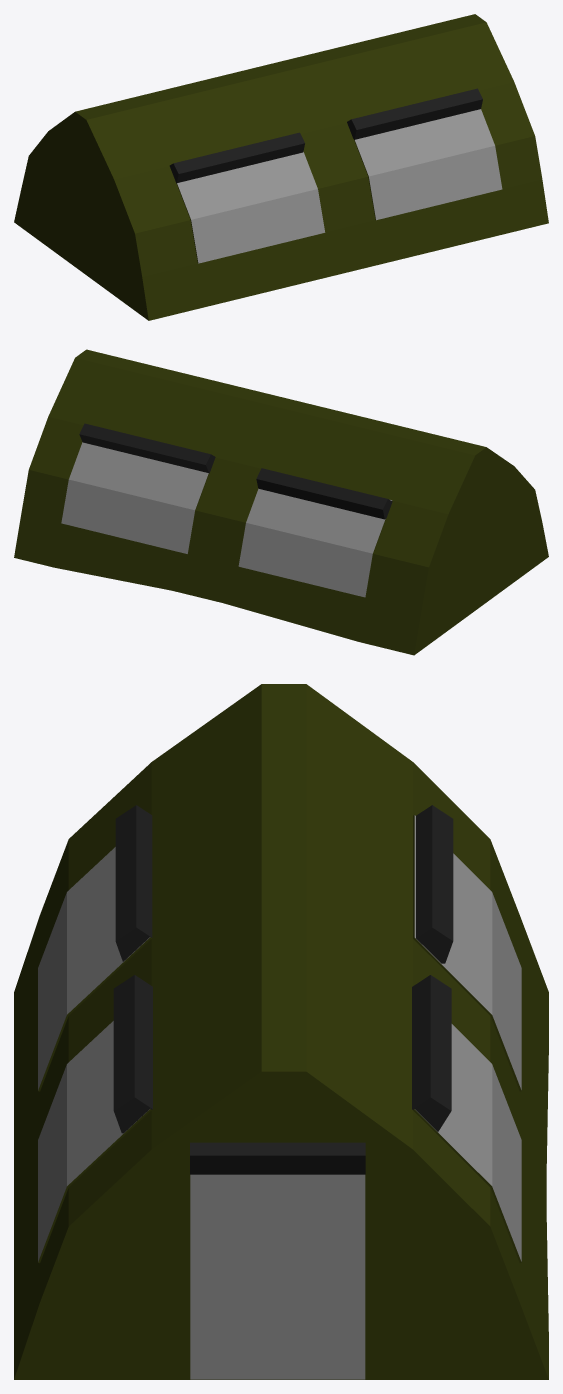
Rendered from MilitaryTent.fbx.
3 renders of one model, top to bottom at view 1: azimuth 30°, elevation 25°; view 2: azimuth 150°, elevation 25°; view 3: azimuth 270°, elevation 25°, orthographic. The views are drawn at different scales.
Visible parts, largest first — view 1: MilitaryTent; view 2: MilitaryTent; view 3: MilitaryTent.
Part boxes in pixels (x1=…): MilitaryTent: x1=14, y1=14, x2=548, y2=320; MilitaryTent: x1=14, y1=349, x2=548, y2=655; MilitaryTent: x1=14, y1=684, x2=548, y2=1379.
Bounding box in the file's own units: 1088 × 398 × 627.
